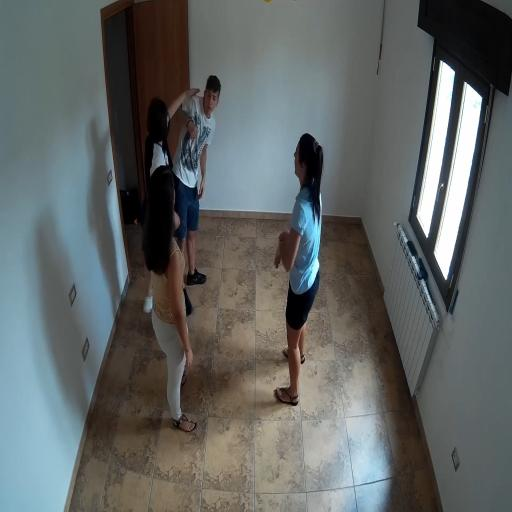violencia: (136, 57, 236, 299)
